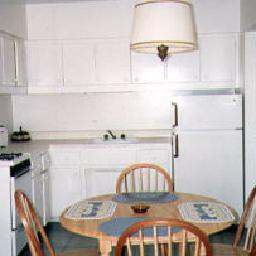Electrodomestico: (171, 98, 243, 215), (4, 155, 30, 250)
Lavaplatos: (91, 130, 142, 147)
